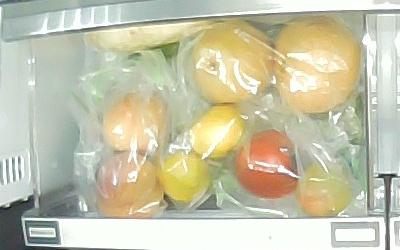peach_vinyl: (102, 89, 171, 156), (95, 153, 164, 217)
pear_vinyl: (275, 18, 361, 115), (190, 22, 273, 106)
tangerine_vinyl: (188, 103, 245, 161), (160, 152, 211, 203)
tomato_vinyl: (234, 128, 302, 198), (296, 163, 354, 218)
